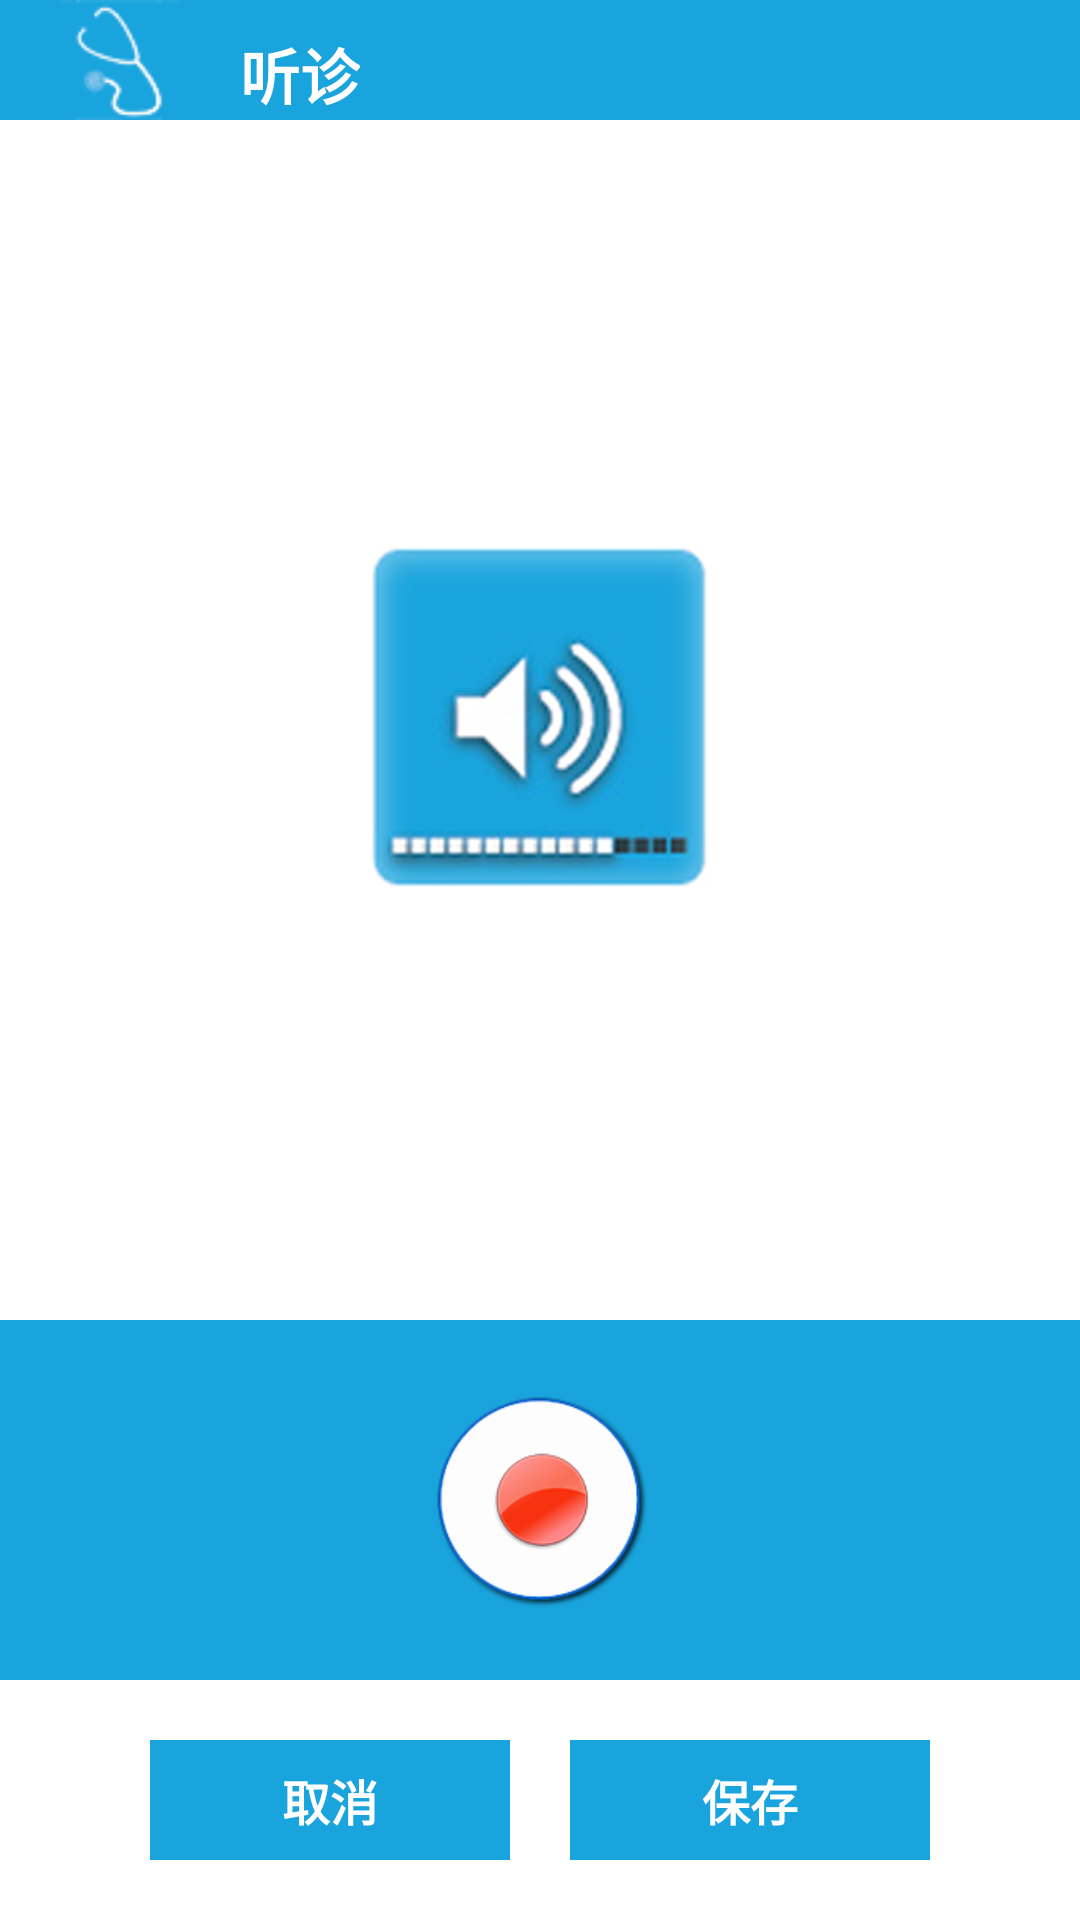

Screen size 1080 × 1920. Icon name, then its box in pixels as (x1, y1, x2, y2):
audio: (373, 548, 706, 886)
auscultation: (75, 0, 162, 118)
record: (437, 1397, 645, 1605)
